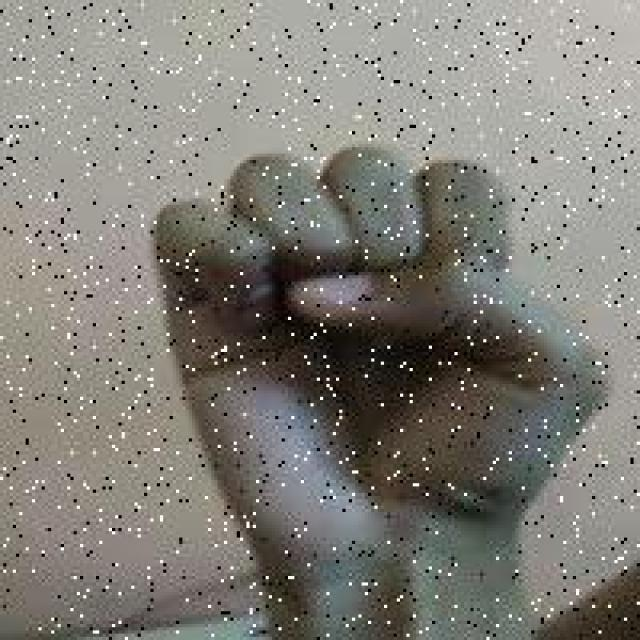E: (133, 138, 619, 572)
